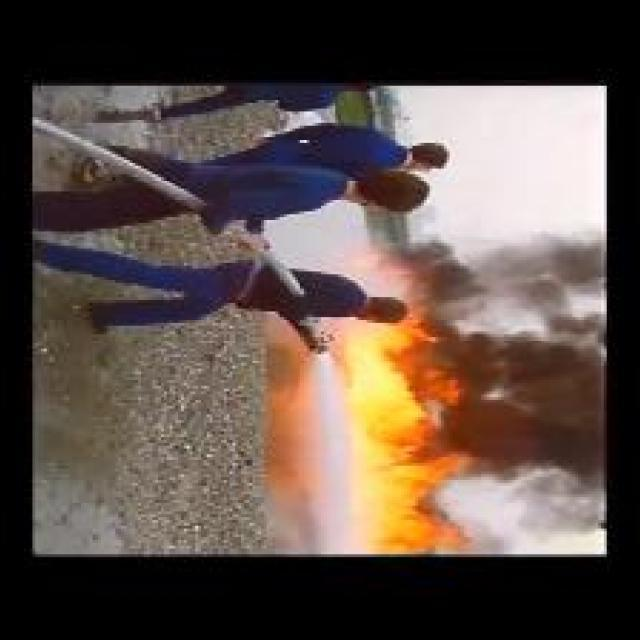Fire: (358, 324, 466, 552)
